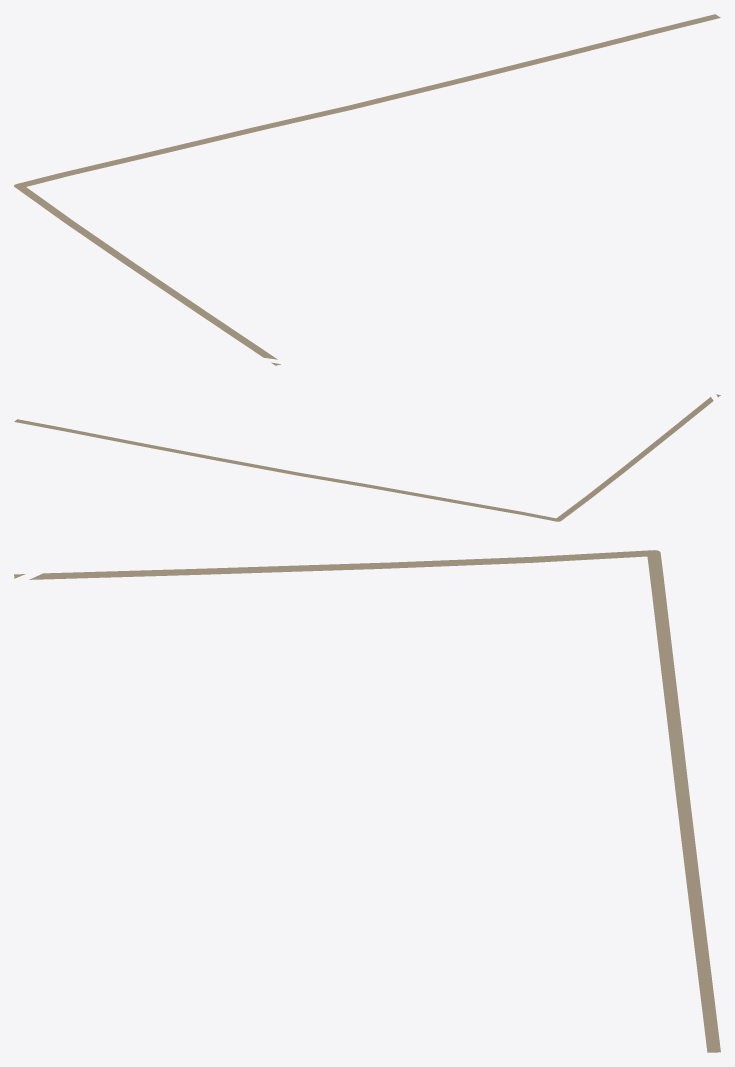
Rendered from farm_4_13_track.glb.
3 renders of one model, top to bottom at view 1: azimuth 30°, elevation 25°; view 2: azimuth 150°, elevation 25°; view 3: azimuth 270°, elevation 25°, orthographic. The views are drawn at different scales.
Visible parts, largest first — view 1: geometry_0; view 2: geometry_0; view 3: geometry_0.
Part boxes in pixels (bbox=[...]): geometry_0: bbox=[14, 14, 720, 365]; geometry_0: bbox=[14, 394, 720, 521]; geometry_0: bbox=[14, 550, 720, 1052].
Size of the model in its own units: 270 by 8.1 by 171.
